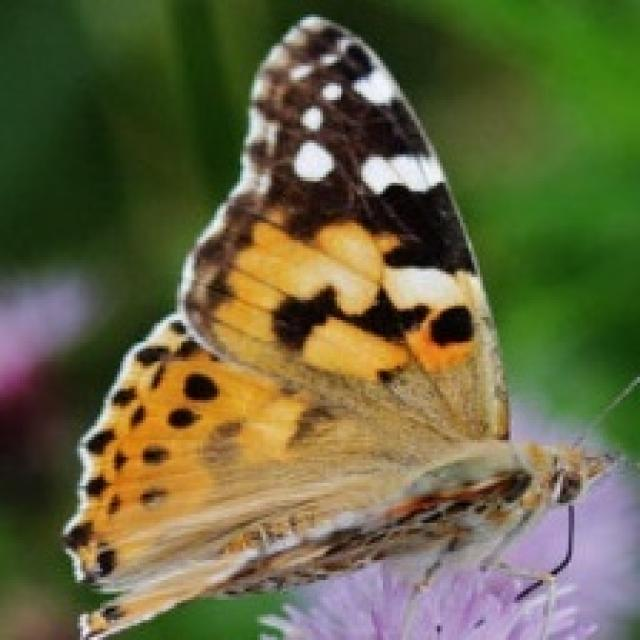butterfly: (57, 12, 637, 637)
